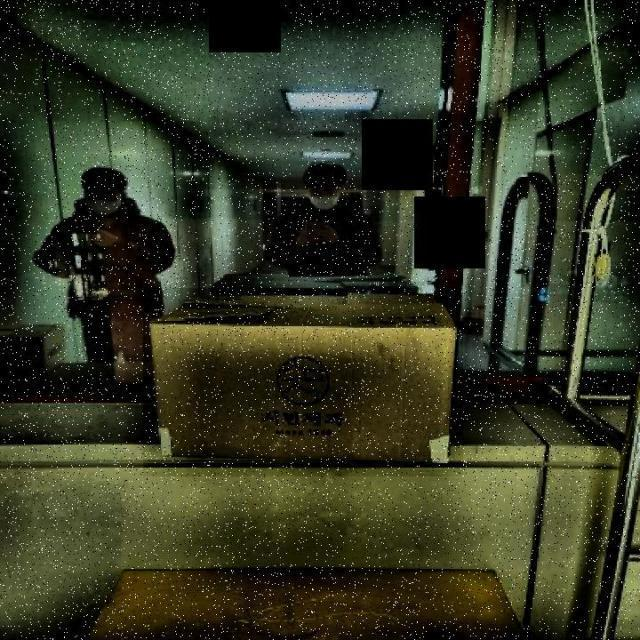box: (143, 288, 463, 477)
